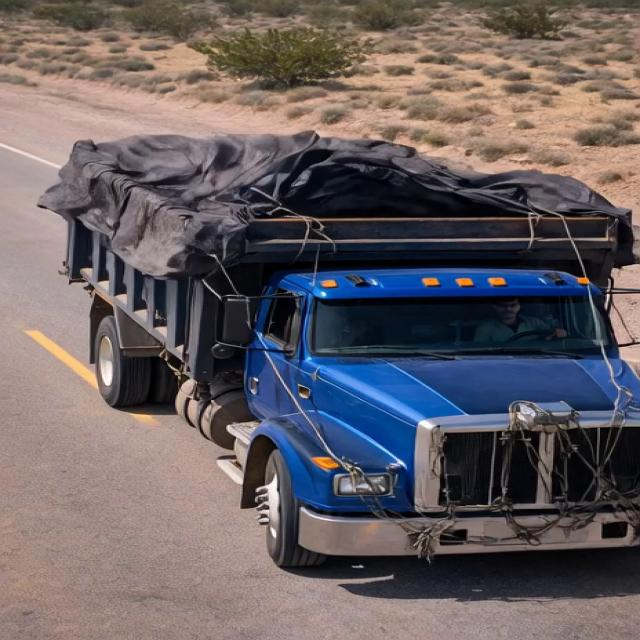trailer: (44, 126, 636, 248)
truck: (43, 84, 631, 578)
